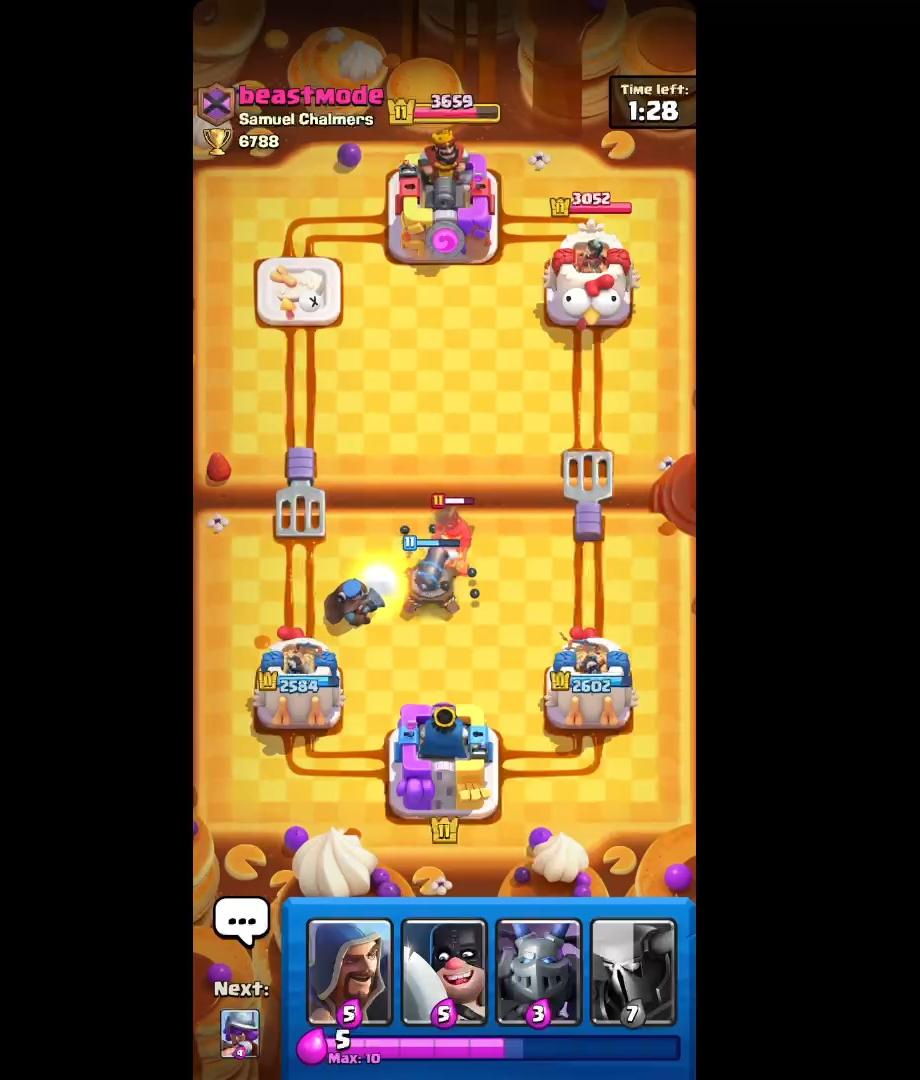Hog Rider: (427, 492, 478, 561)
